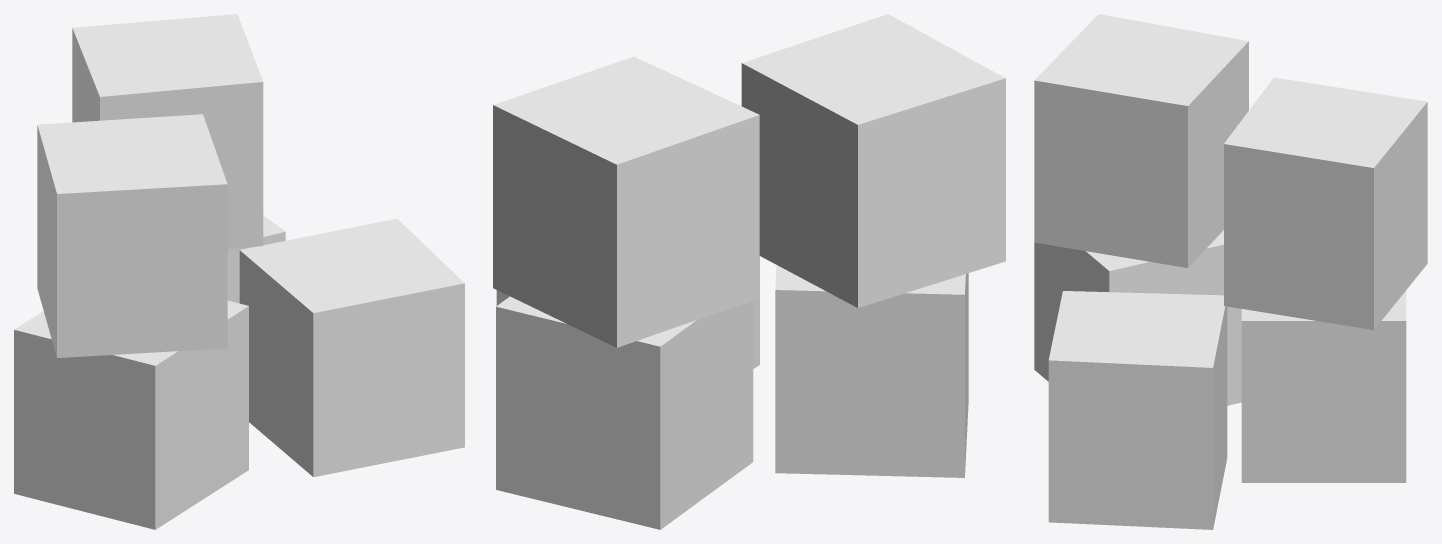
3 views of the same model, side by side, from view 1: azimuth 30°, elevation 25°; view 2: azimuth 150°, elevation 25°; view 3: azimuth 270°, elevation 25° (orthographic). The views are drawn at different scales.
Bounding box in the file's own units: 128 × 100 × 110.
1 material, 1 textured.
